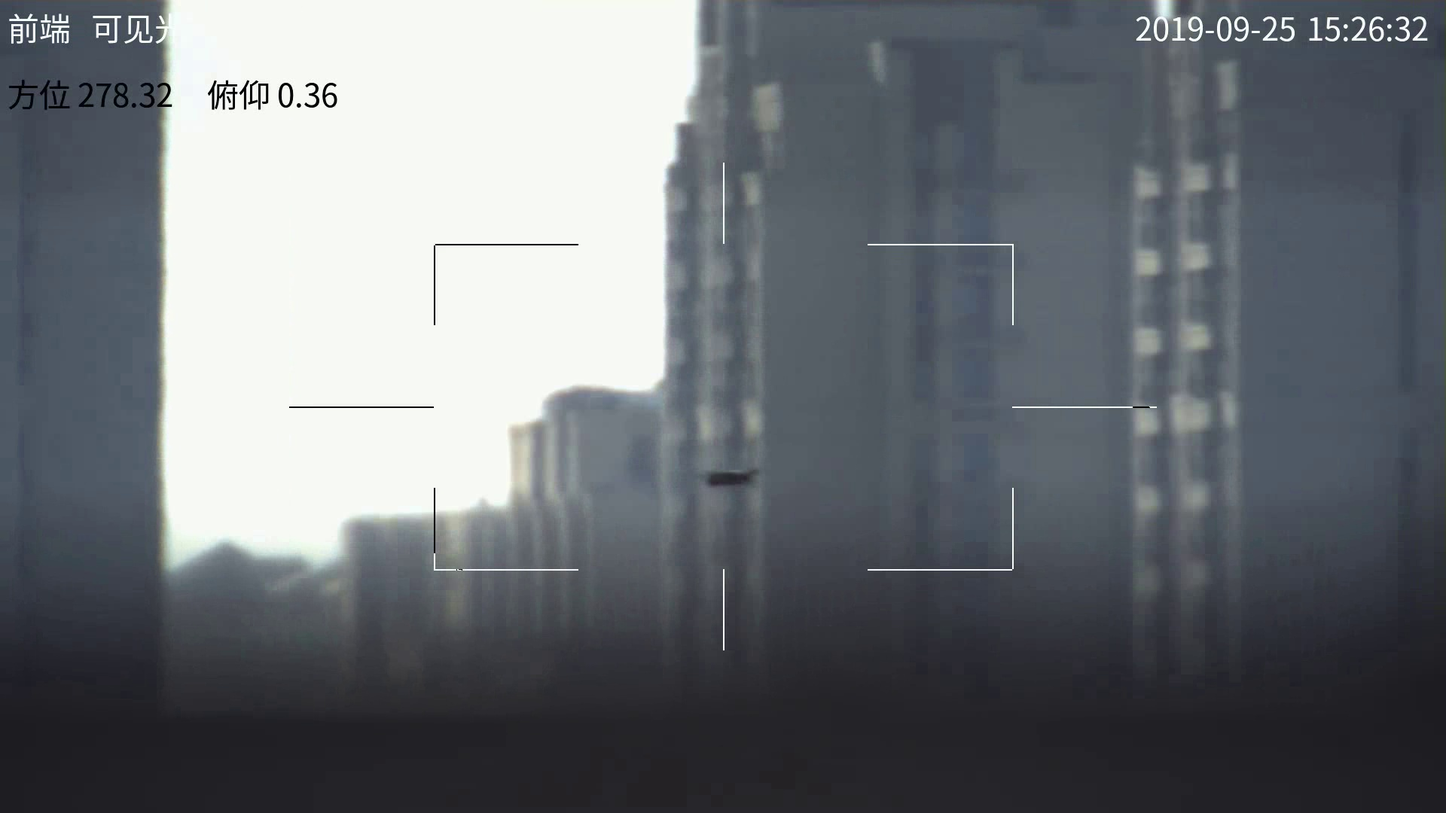drone: (702, 466, 758, 489)
